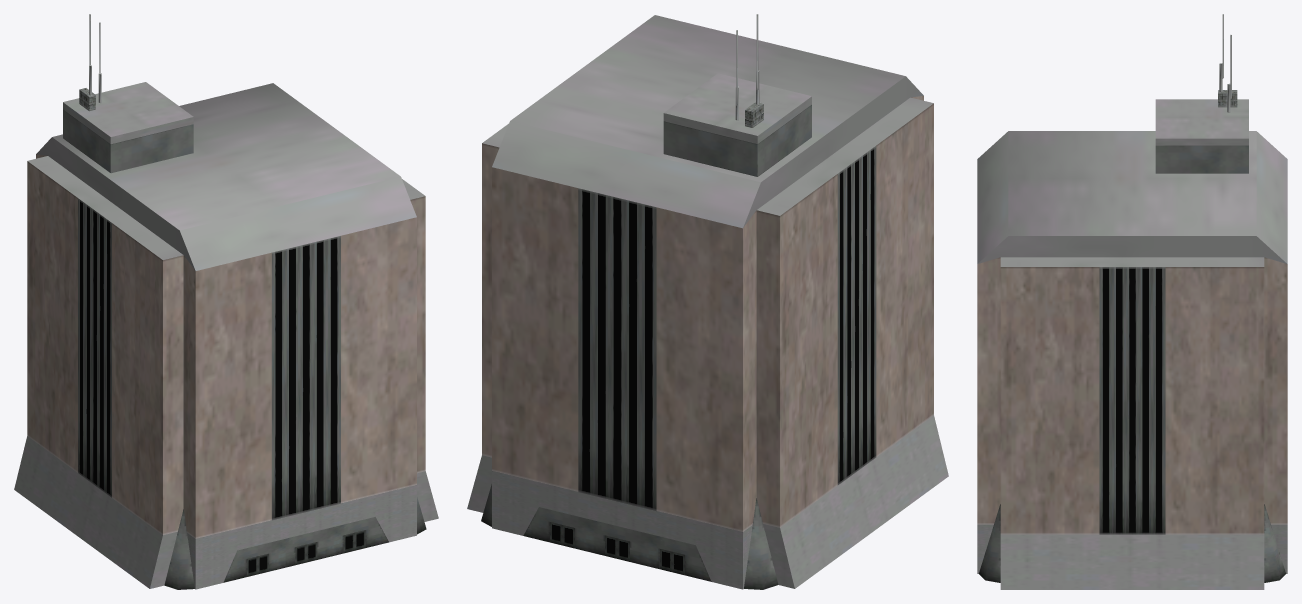
File: thm_corl_imprv_building_s03_r0_mesh_l3.fbx
The picture shows the model from 3 angles, left to right: view 1: azimuth 30°, elevation 25°; view 2: azimuth 150°, elevation 25°; view 3: azimuth 270°, elevation 25°; orthographic projection. The views are drawn at different scales.
Parts seen in each view (by area): view 1: mesh_node; view 2: mesh_node; view 3: mesh_node.
Boxes of the visible parts, x1,y1,x2,y2 form: mesh_node: (14, 14, 438, 589); mesh_node: (467, 14, 948, 589); mesh_node: (977, 14, 1287, 589).
Size of the model in its own units: 41.8 by 66 by 40.
1 material, 1 textured.
